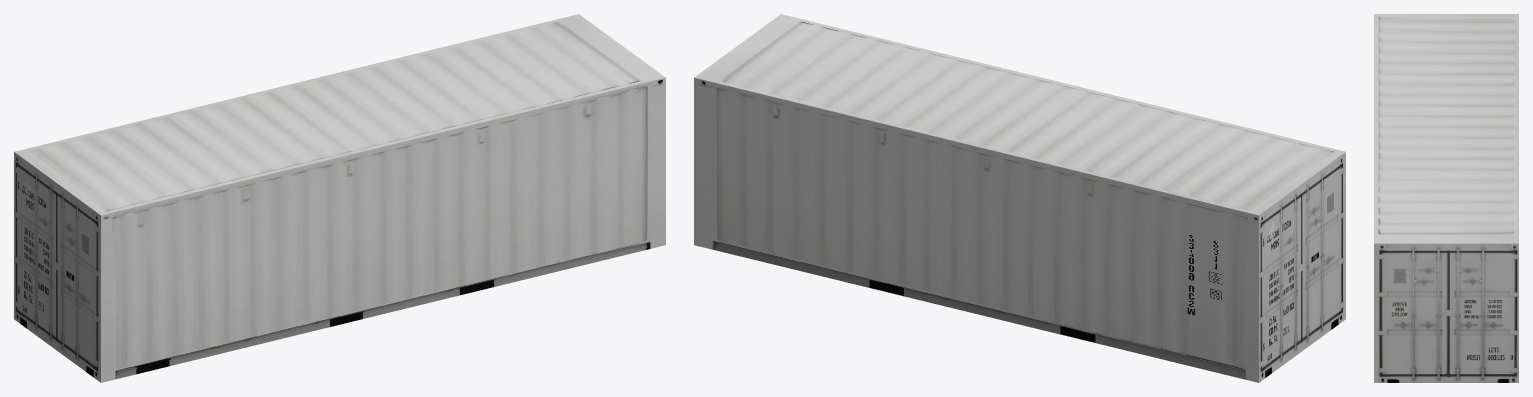
Rendered from 30ft_86_container.glb.
The picture shows the model from 3 angles, left to right: view 1: azimuth 30°, elevation 25°; view 2: azimuth 150°, elevation 25°; view 3: azimuth 270°, elevation 25°; orthographic projection. The views are drawn at different scales.
Visible parts, largest first — view 1: containerobjcleanermaterialmergergles; view 2: containerobjcleanermaterialmergergles; view 3: containerobjcleanermaterialmergergles.
Part boxes in pixels (left/top/right/bottom): containerobjcleanermaterialmergergles: left=14, top=14, right=665, bottom=382; containerobjcleanermaterialmergergles: left=694, top=14, right=1345, bottom=382; containerobjcleanermaterialmergergles: left=1374, top=14, right=1518, bottom=382.
Bounding box in the file's own units: 9.14 × 2.59 × 2.44.
1 material, 1 textured.
